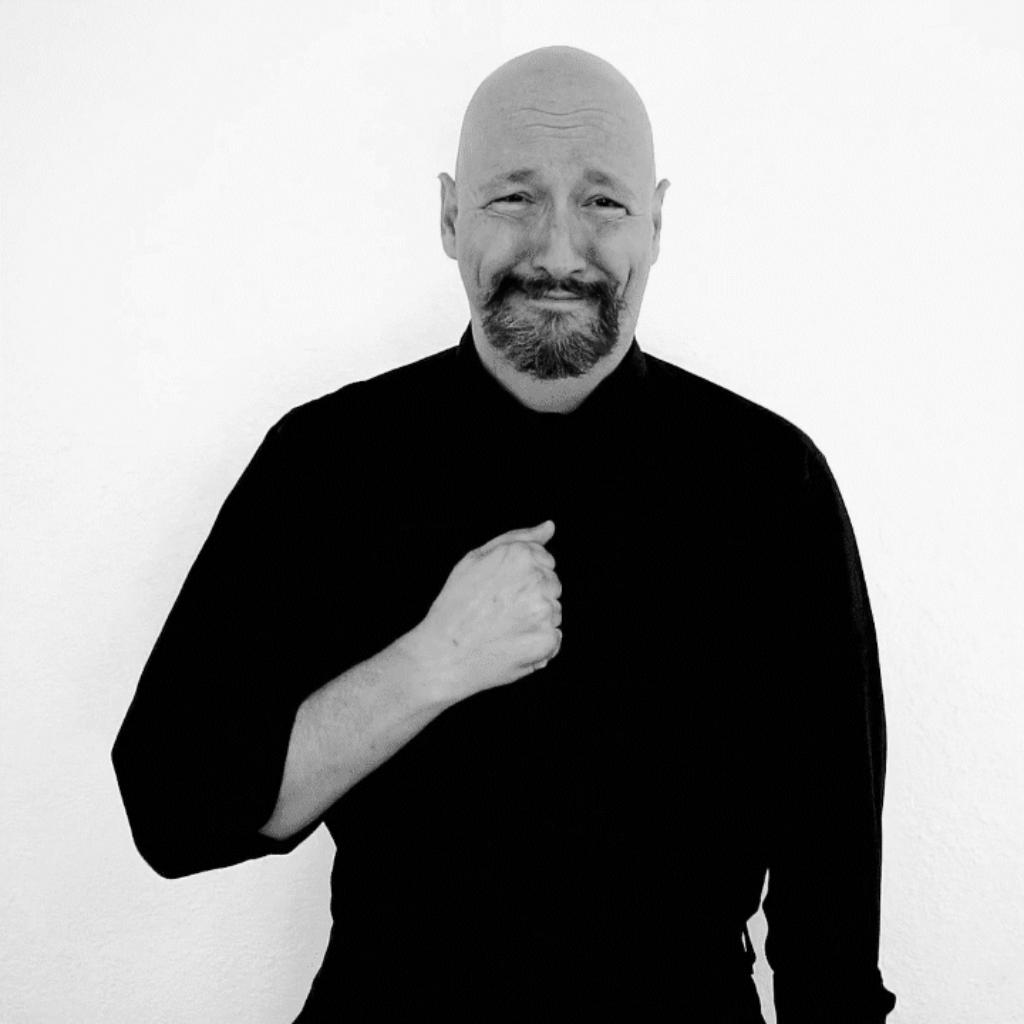sorry: (429, 521, 563, 687)
